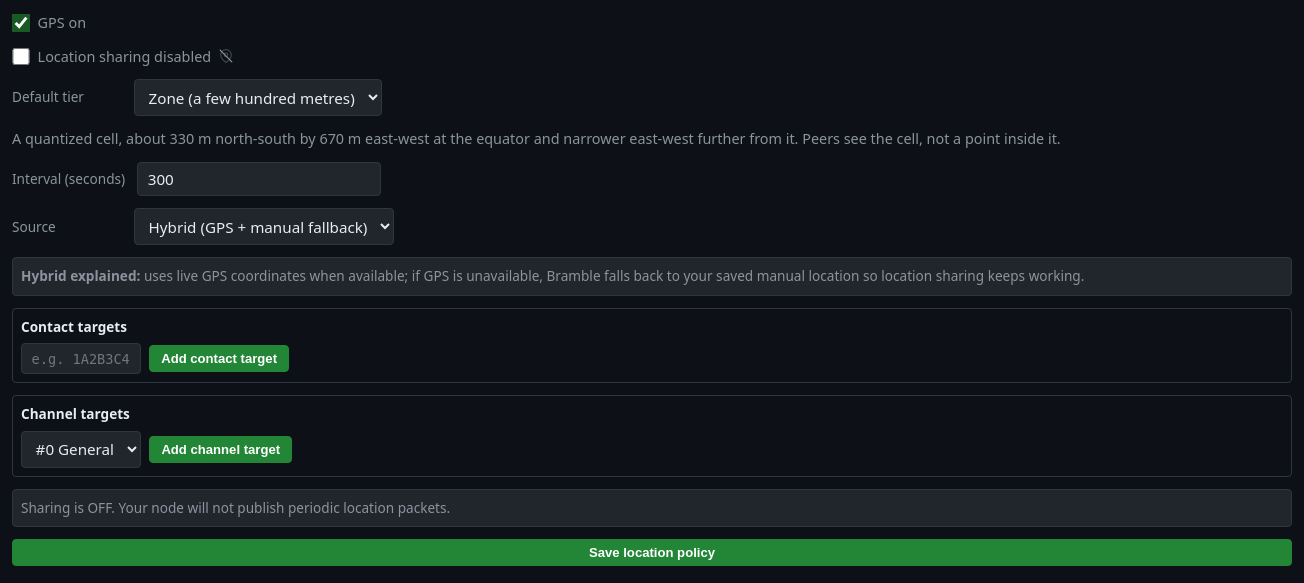
Test: LocationSection hybrid policy controls › shows tier description for the selected default tier
Expected: the text "330 m north-south by 670 m east-west" is shown, x1=12 y1=129 x2=1061 y2=148
Select "Presence only" in the dropdown labelled "Default tier" at (258, 98), box x1=134 y1=79 x2=382 y2=116
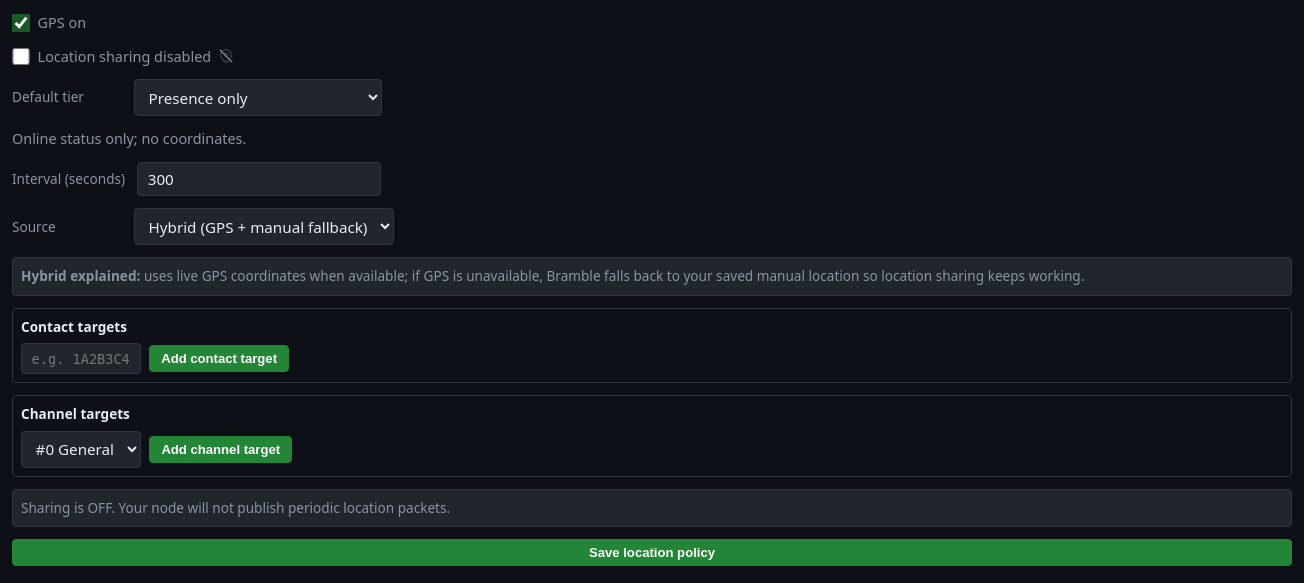
Expected: the text "Online status only; no coordinates." is shown, x1=12 y1=129 x2=246 y2=148
Select "Off (share nothing)" in the dropdown labelled "Default tier" at (258, 98), box x1=134 y1=79 x2=382 y2=116
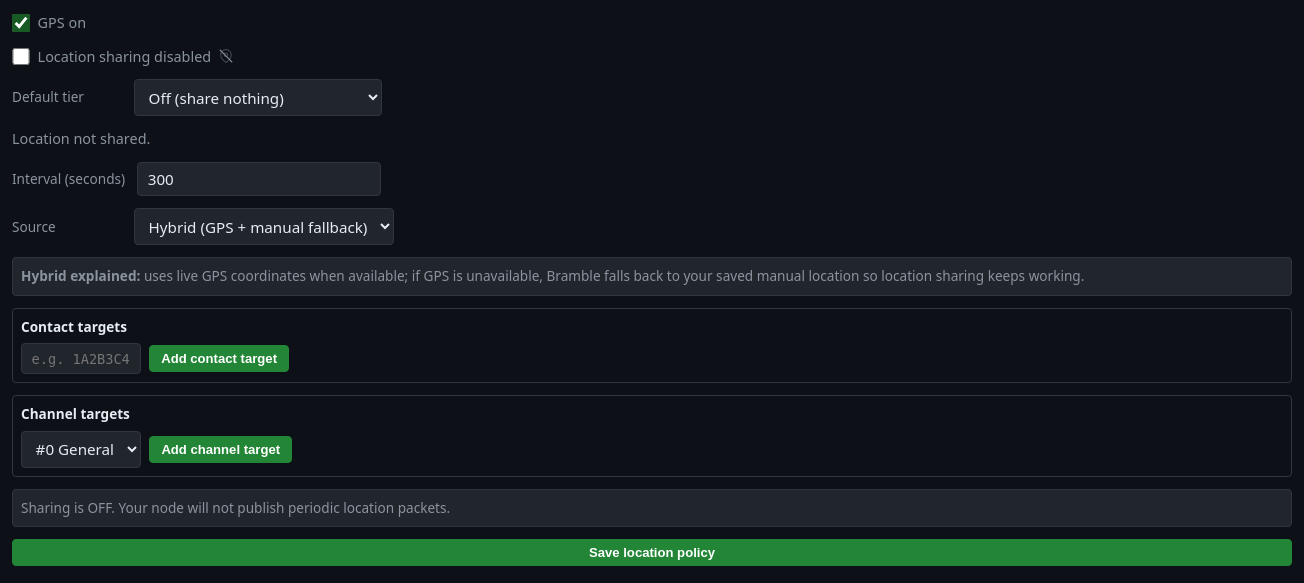
Expected: the text "Location not shared." is shown, x1=12 y1=129 x2=150 y2=148
Select "Exact coordinates" in the dropdown labelled "Default tier" at (258, 98), box x1=134 y1=79 x2=382 y2=116
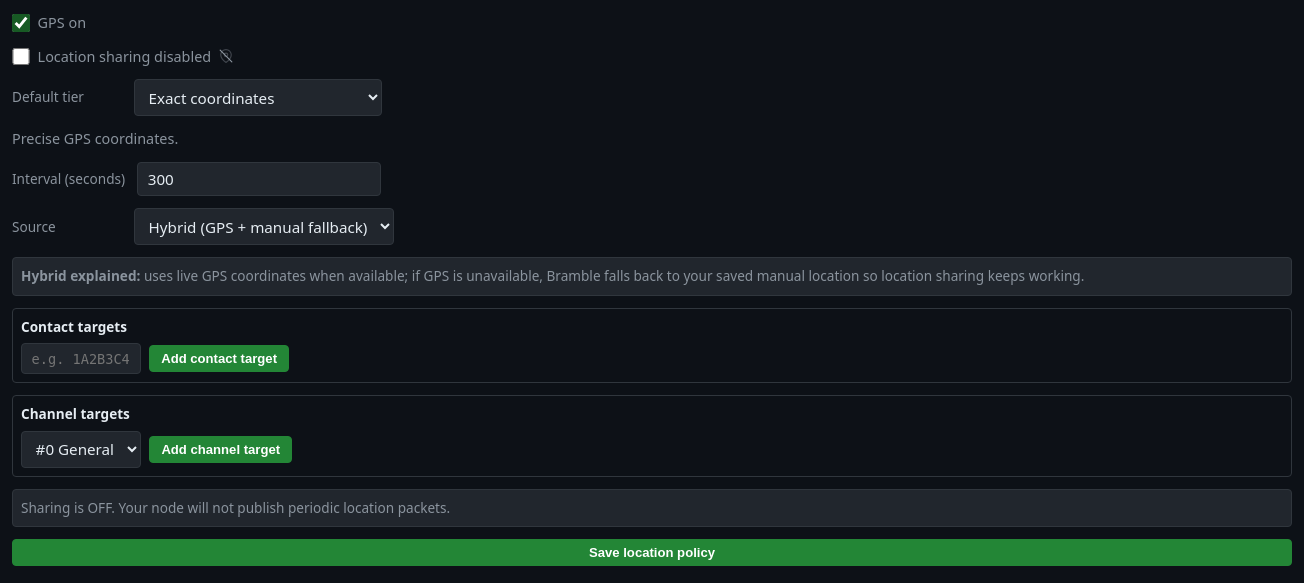
Expected: the text "Precise GPS coordinates." is shown, x1=12 y1=129 x2=178 y2=148
